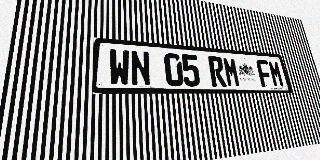0: (164, 53, 184, 86)
5: (181, 54, 201, 86)
F: (256, 59, 273, 87)
M: (222, 57, 241, 87), (267, 60, 285, 87)
N: (130, 50, 151, 86)
R: (207, 56, 227, 87)
W: (109, 48, 130, 86)
